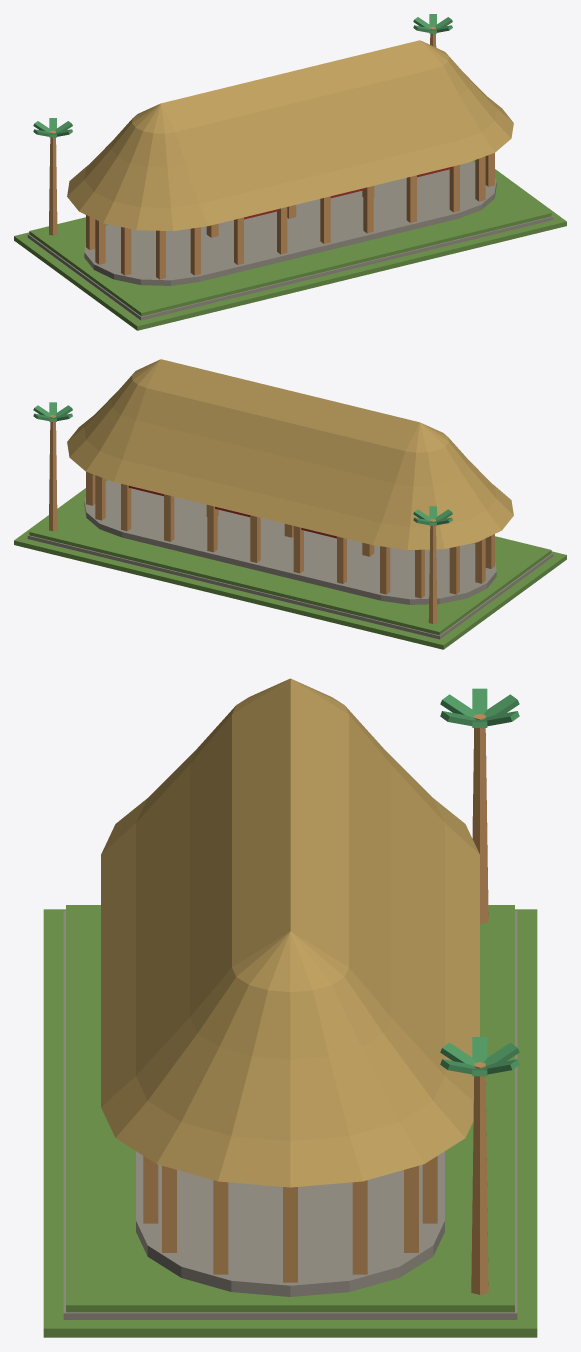
Rendered from house-2x1-2f-third-fale-a.glb.
The picture shows the model from 3 angles, top to bottom: view 1: azimuth 30°, elevation 25°; view 2: azimuth 150°, elevation 25°; view 3: azimuth 270°, elevation 25°; orthographic projection. The views are drawn at different scales.
Visible parts, largest first — view 1: house-2x1-2f-third-fale-a; view 2: house-2x1-2f-third-fale-a; view 3: house-2x1-2f-third-fale-a.
Boxes of the visible parts, <box> form: house-2x1-2f-third-fale-a: <box>14,14,566,330</box>; house-2x1-2f-third-fale-a: <box>14,359,566,649</box>; house-2x1-2f-third-fale-a: <box>43,678,537,1337</box>.
Size of the model in its own units: 1.99 by 0.715 by 0.99.
Materials: 1 (1 with a texture image).
